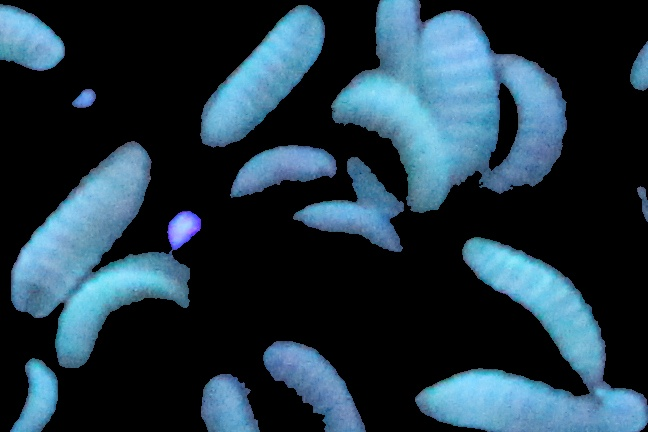larvae: (9, 140, 154, 315), (461, 238, 606, 369), (196, 7, 321, 147), (53, 249, 191, 369), (332, 70, 442, 211), (414, 367, 640, 432), (418, 12, 499, 170), (483, 52, 568, 193), (264, 343, 369, 432), (293, 197, 404, 255), (226, 144, 333, 204), (367, 1, 431, 83), (1, 5, 64, 72), (199, 371, 262, 431), (17, 360, 60, 432)
